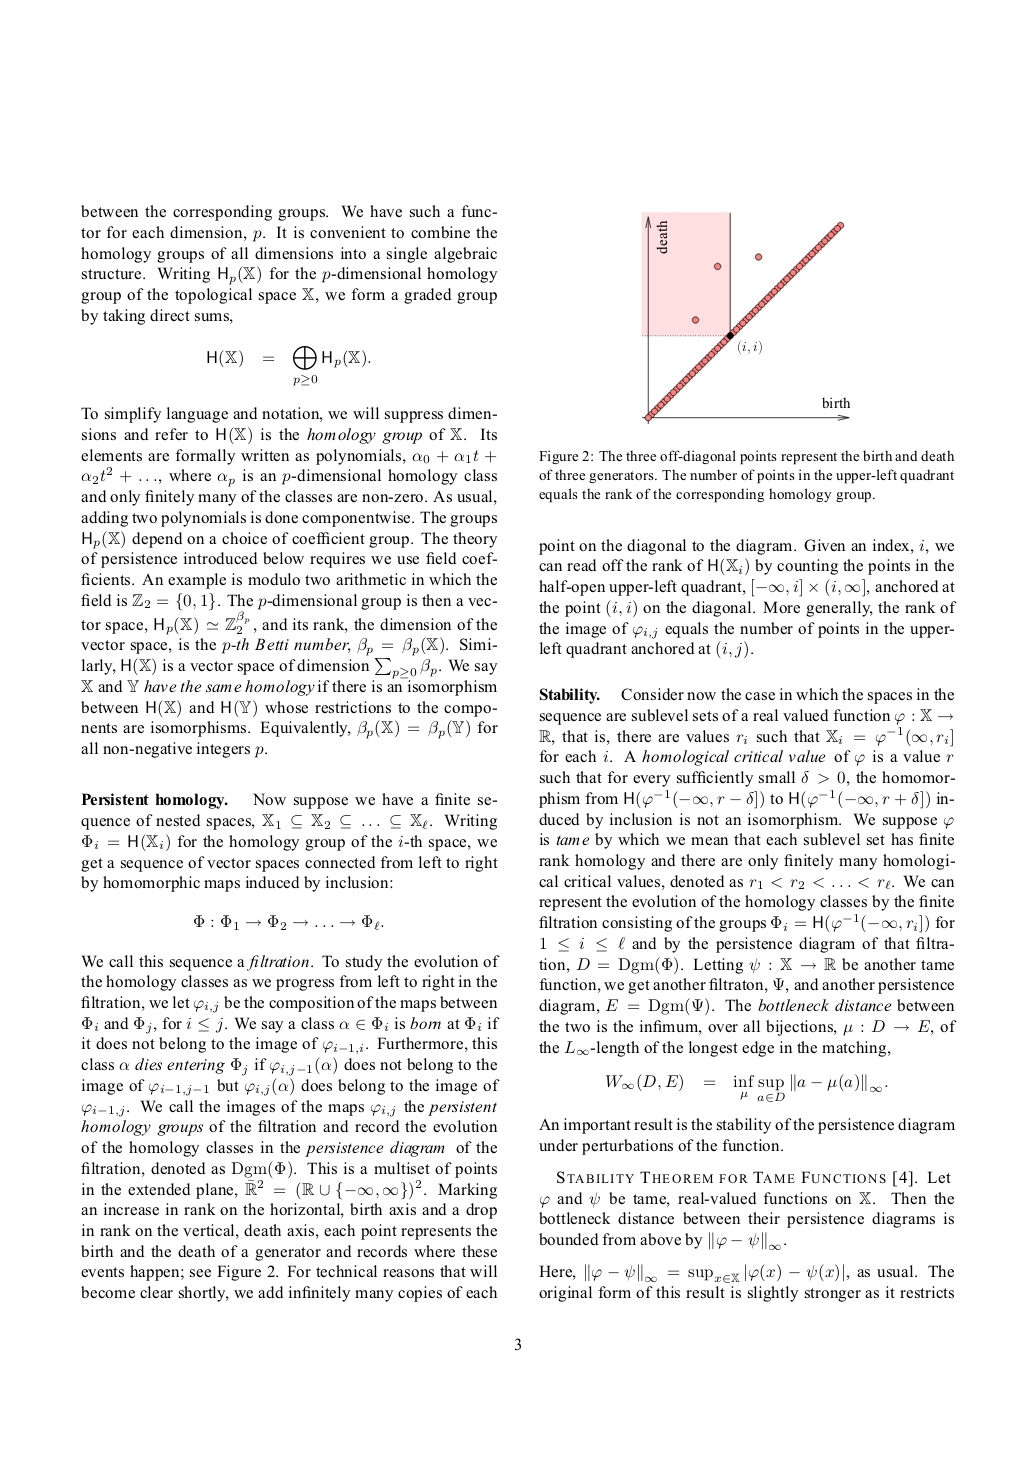figure: (640, 211, 850, 424)
formula: (606, 1072, 887, 1102), (208, 346, 370, 385), (194, 914, 383, 930)
